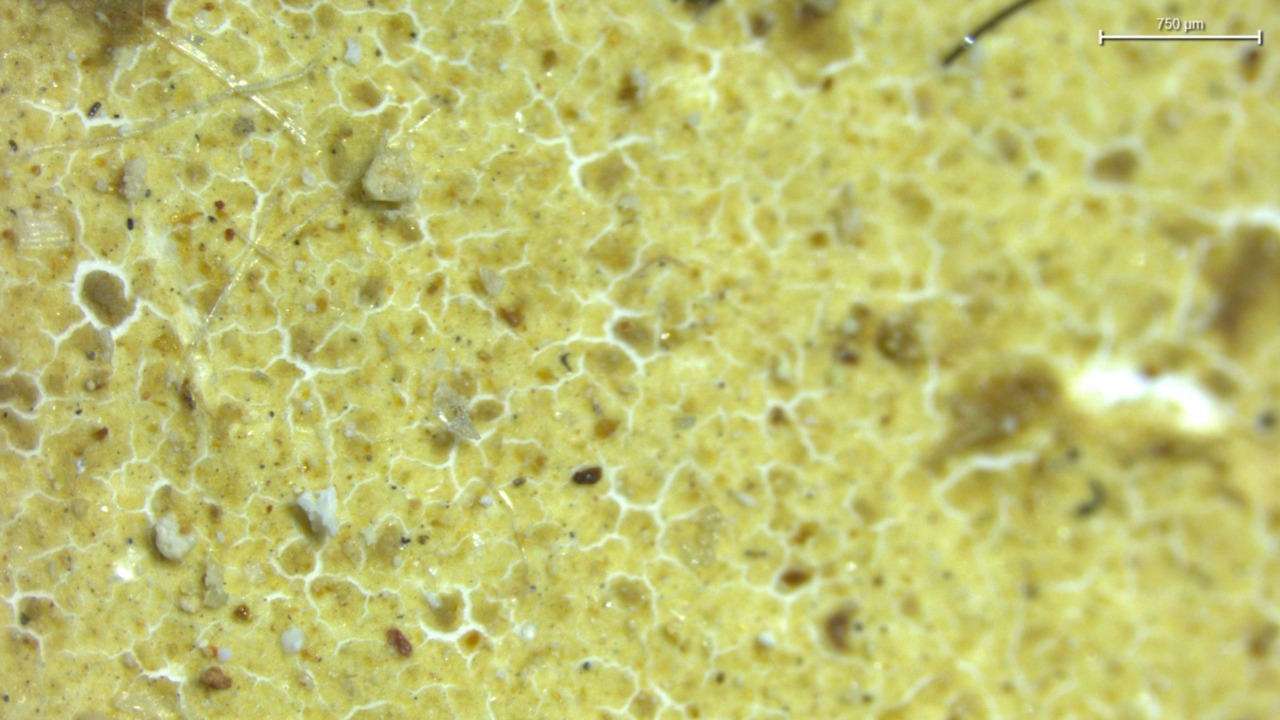microplastic_fragment: (362, 148, 422, 202), (297, 486, 338, 537), (154, 513, 196, 561)
